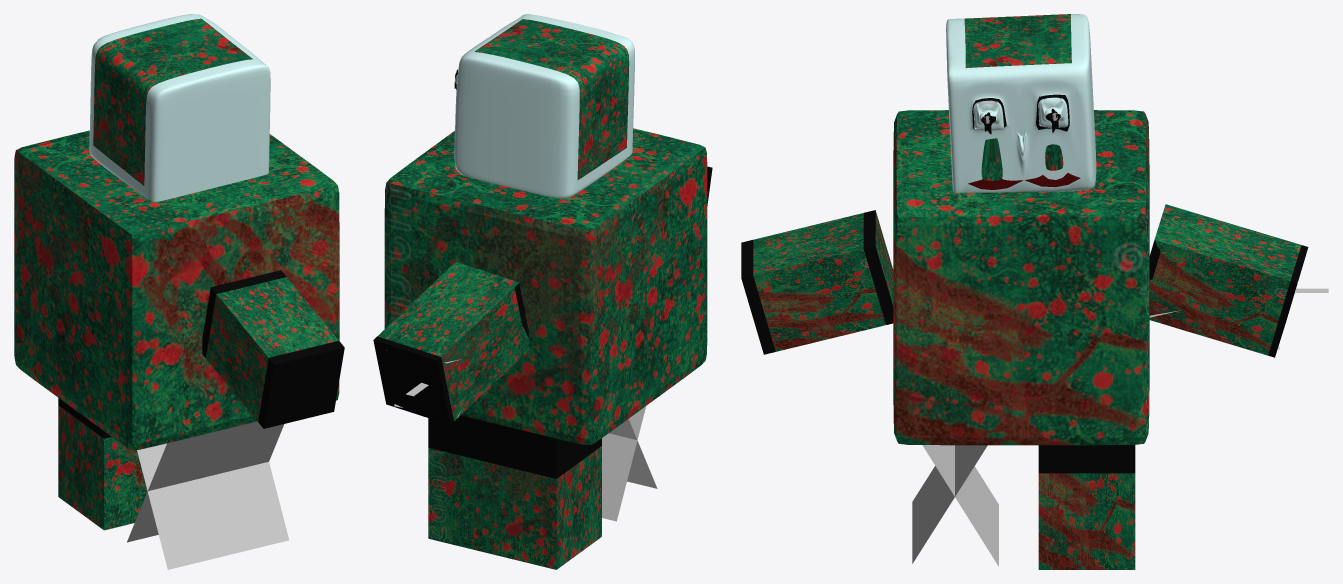
3 renders of one model, left to right at view 1: azimuth 30°, elevation 25°; view 2: azimuth 150°, elevation 25°; view 3: azimuth 270°, elevation 25°, orthographic. The views are drawn at different scales.
Visible parts, largest first — view 1: Cube_Cube.001, Cube.001_Cube.002, Cube.005_Cube.007, RectLL1.001_Plane.011, Cube.003_Cube.004, RectRL1_Plane.009; view 2: Cube_Cube.001, Cube.001_Cube.002, Cube.003_Cube.004, Cube.004_Cube.005, RectRL1_Plane.009, RectLL1.001_Plane.011; view 3: Cube_Cube.001, Cube.001_Cube.002, Cube.004_Cube.005, Cube.005_Cube.007, Cube.003_Cube.004, RectRL1_Plane.009, RectLL1.001_Plane.011.
Boxes of the visible parts, x1=… form: Cube_Cube.001: x1=14, y1=130, x2=339, y2=449; Cube.001_Cube.002: x1=89, y1=14, x2=270, y2=201; Cube.005_Cube.007: x1=202, y1=270, x2=344, y2=428; RectLL1.001_Plane.011: x1=137, y1=443, x2=288, y2=569; Cube.003_Cube.004: x1=58, y1=398, x2=147, y2=530; RectRL1_Plane.009: x1=127, y1=421, x2=284, y2=542; Cube_Cube.001: x1=384, y1=128, x2=707, y2=444; Cube.001_Cube.002: x1=454, y1=14, x2=634, y2=198; Cube.003_Cube.004: x1=428, y1=415, x2=601, y2=569; Cube.004_Cube.005: x1=373, y1=262, x2=528, y2=424; RectRL1_Plane.009: x1=602, y1=406, x2=645, y2=521; RectLL1.001_Plane.011: x1=609, y1=419, x2=657, y2=488; Cube_Cube.001: x1=893, y1=110, x2=1149, y2=445; Cube.001_Cube.002: x1=946, y1=14, x2=1096, y2=192; Cube.004_Cube.005: x1=1149, y1=204, x2=1308, y2=357; Cube.005_Cube.007: x1=741, y1=210, x2=893, y2=354; Cube.003_Cube.004: x1=1038, y1=445, x2=1135, y2=569; RectRL1_Plane.009: x1=922, y1=445, x2=998, y2=566; RectLL1.001_Plane.011: x1=912, y1=445, x2=987, y2=563.
Size of what is drawn, in the model's own units: 1.46 by 3.14 by 3.34.
14 materials, 1 textured.
